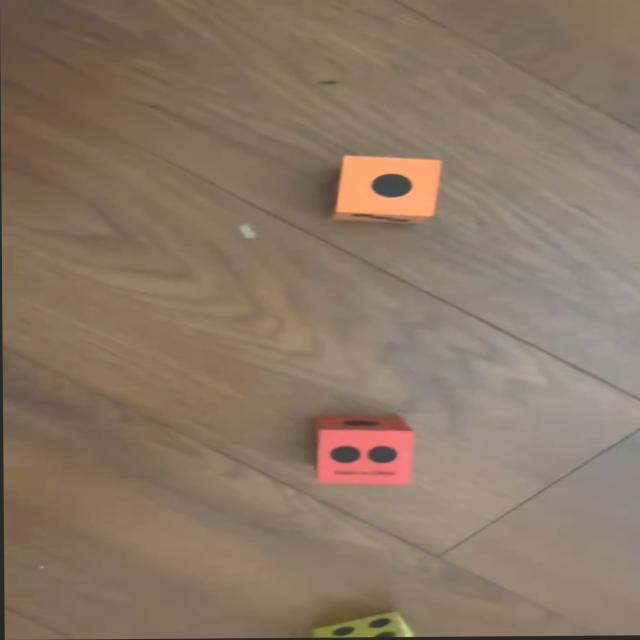cube: (315, 418, 414, 486)
